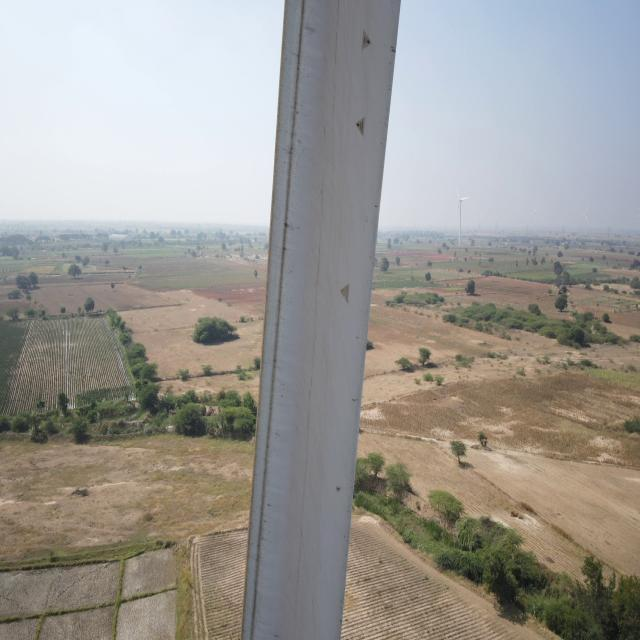Dirt: (268, 0, 345, 638)
Pin Hole: (356, 118, 370, 134), (332, 481, 346, 496), (366, 33, 375, 51)
